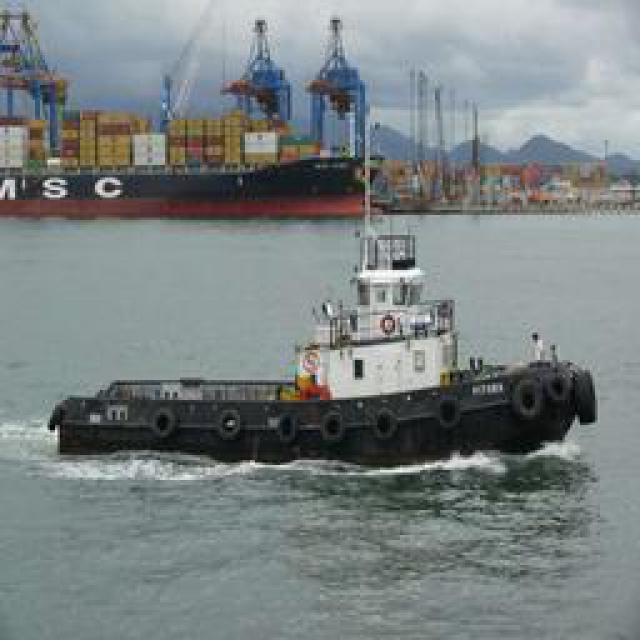Ship: (54, 190, 599, 458)
